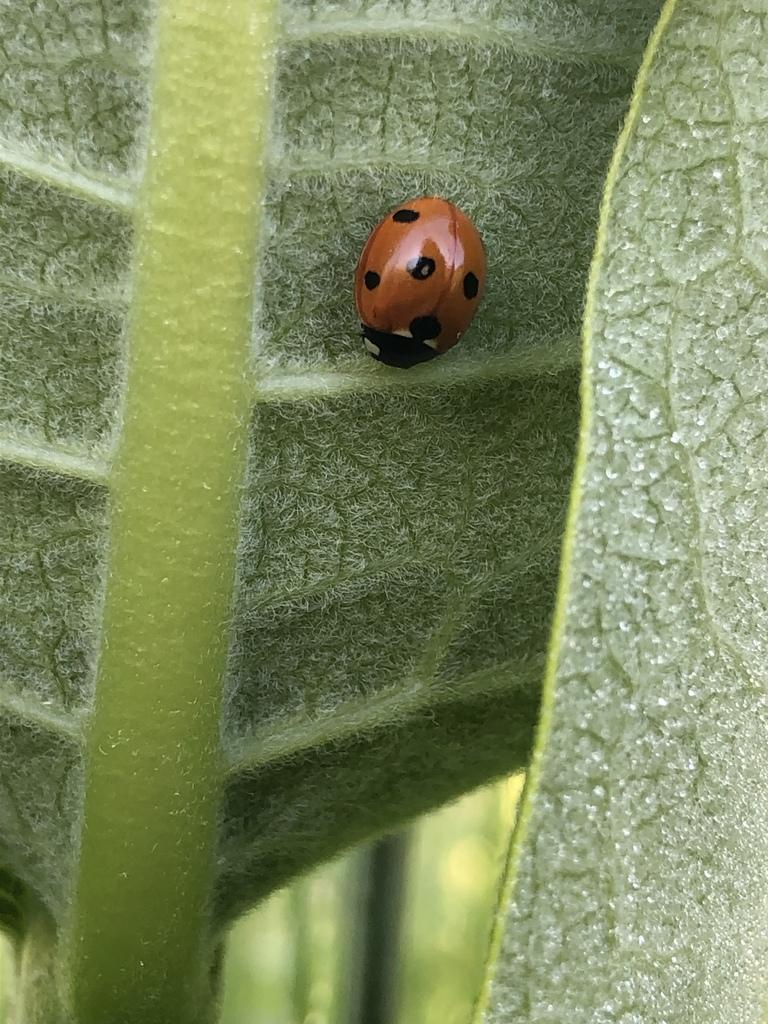ladybug: (349, 194, 496, 374)
